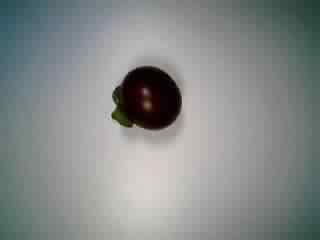mangosteen: (109, 60, 183, 139)
